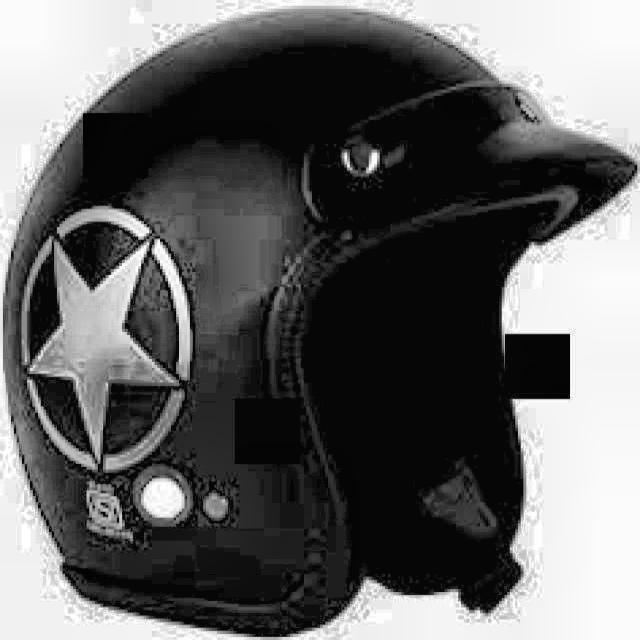Helmet: (13, 3, 635, 640)
